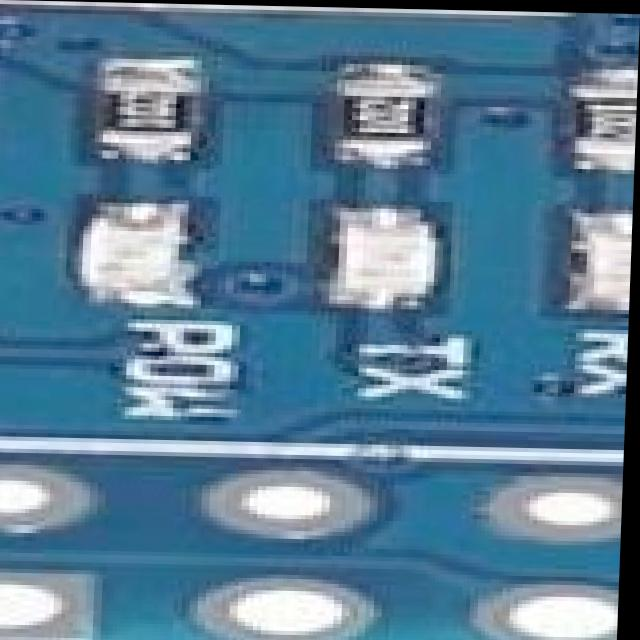LED: (323, 202, 451, 307), (84, 204, 191, 310), (564, 213, 634, 312)
resistor: (344, 78, 448, 154), (96, 66, 186, 153), (567, 90, 638, 167)
switch: (0, 0, 583, 13)
